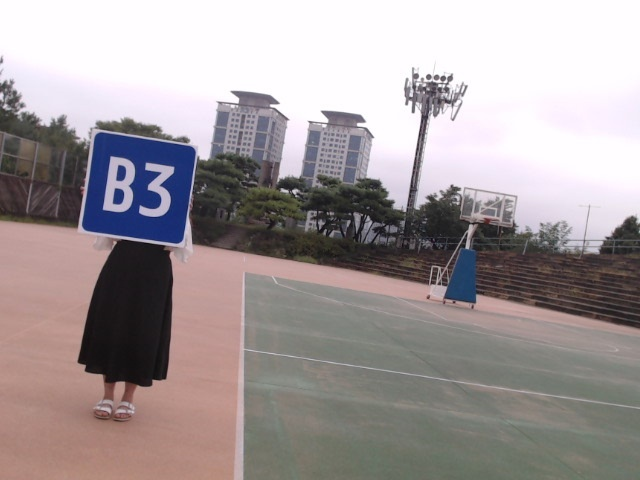delivery_b3: (81, 130, 196, 246)
